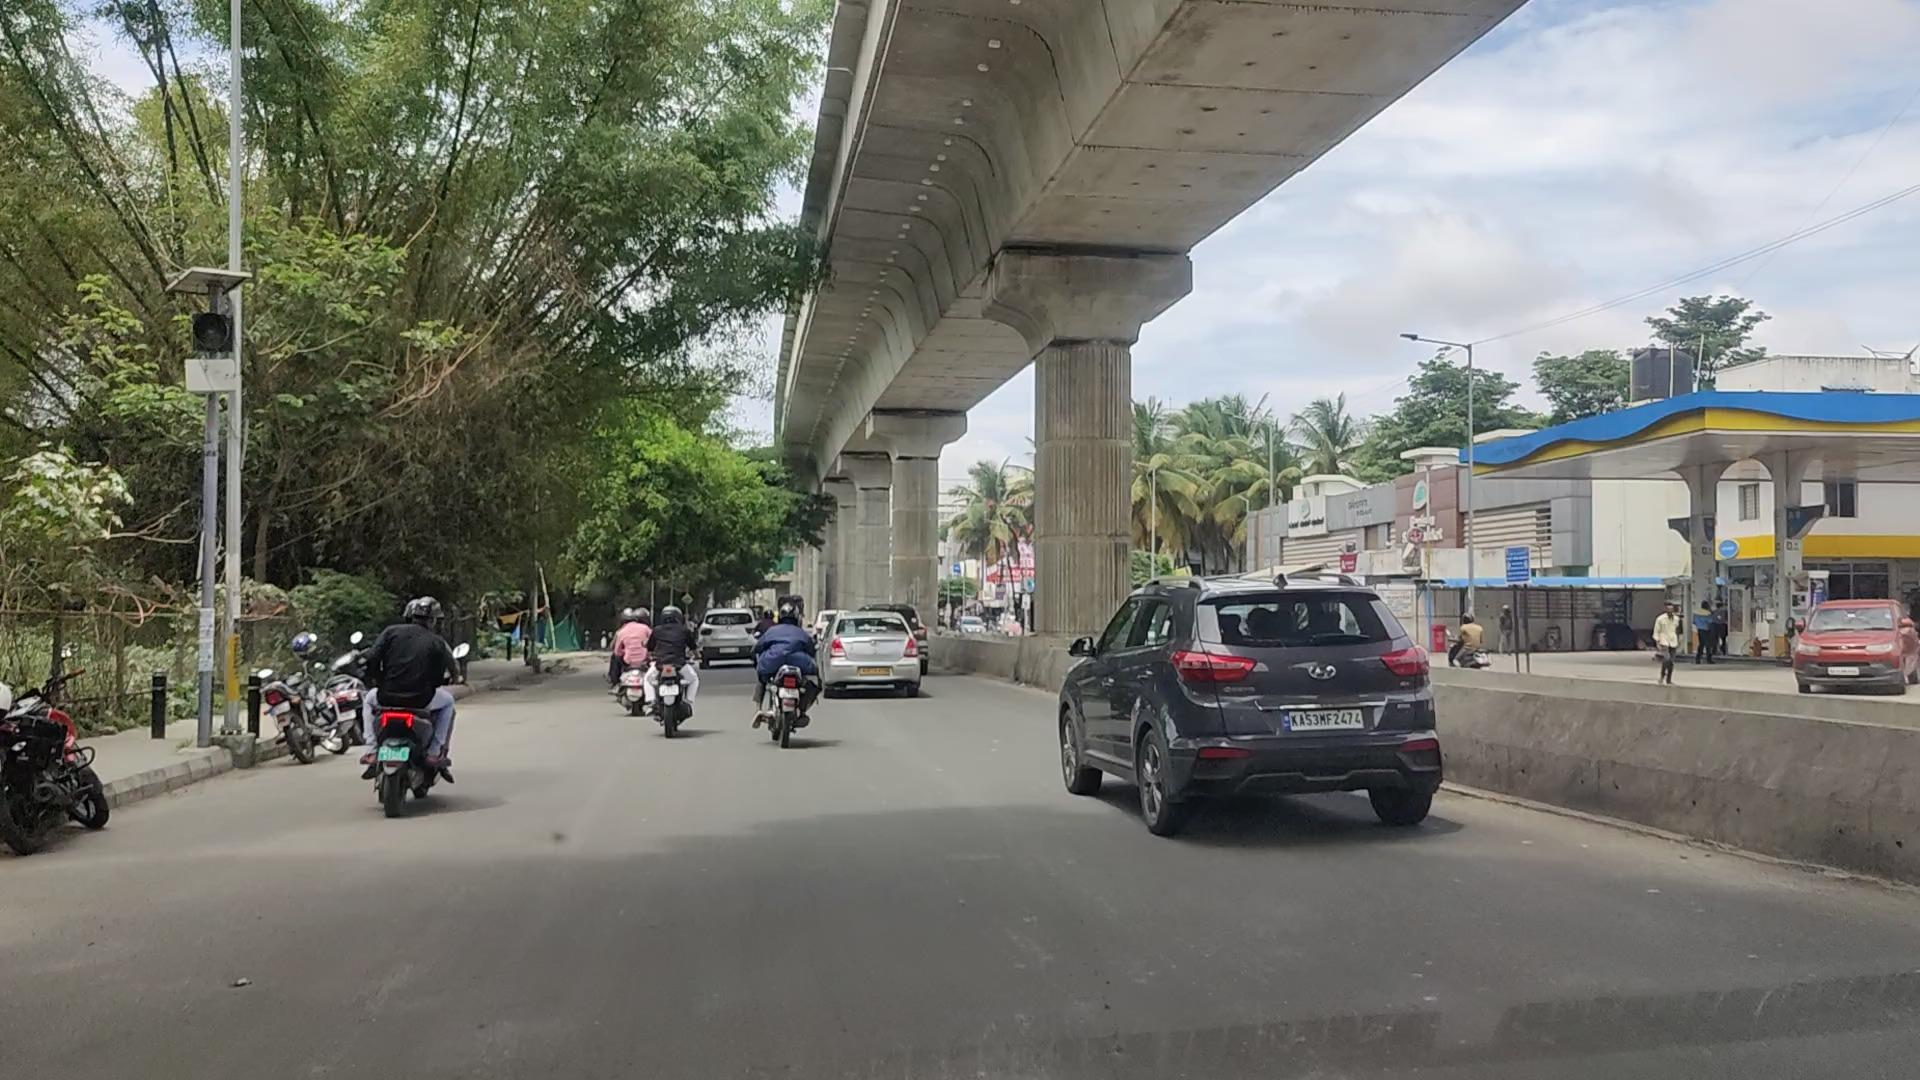LMV: (1085, 563, 1453, 858), (375, 613, 465, 839), (754, 600, 832, 760), (640, 599, 694, 737)
